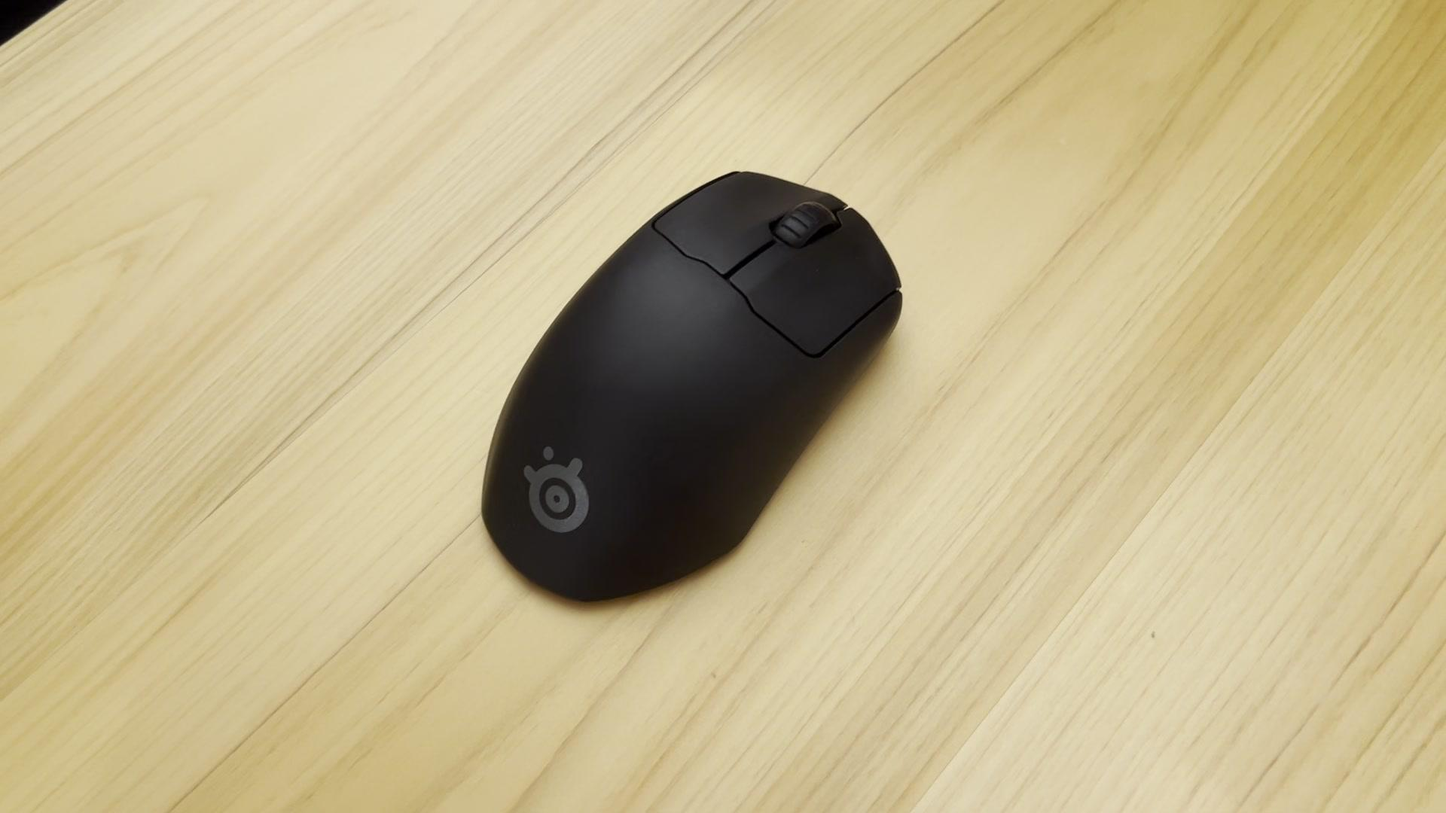mouse: (471, 161, 923, 619)
